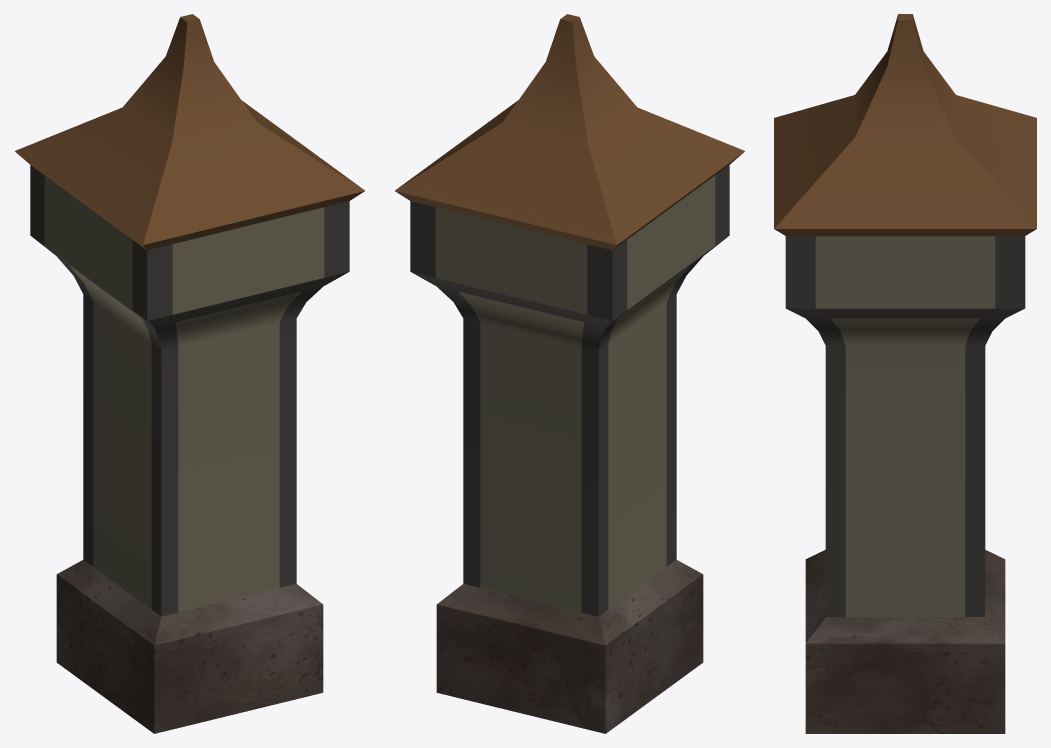
Rendered from HeistTower02.fbx.
3 renders of one model, left to right at view 1: azimuth 30°, elevation 25°; view 2: azimuth 150°, elevation 25°; view 3: azimuth 270°, elevation 25°, orthographic. The views are drawn at different scales.
Parts seen in each view (by area): view 1: HeistTower02; view 2: HeistTower02; view 3: HeistTower02.
Part boxes in pixels (x1=…): HeistTower02: x1=15, y1=14, x2=364, y2=733; HeistTower02: x1=395, y1=14, x2=744, y2=733; HeistTower02: x1=774, y1=14, x2=1036, y2=733.
Size of the model in its own units: 13.18 by 37.32 by 13.18.
4 materials, 1 textured.
